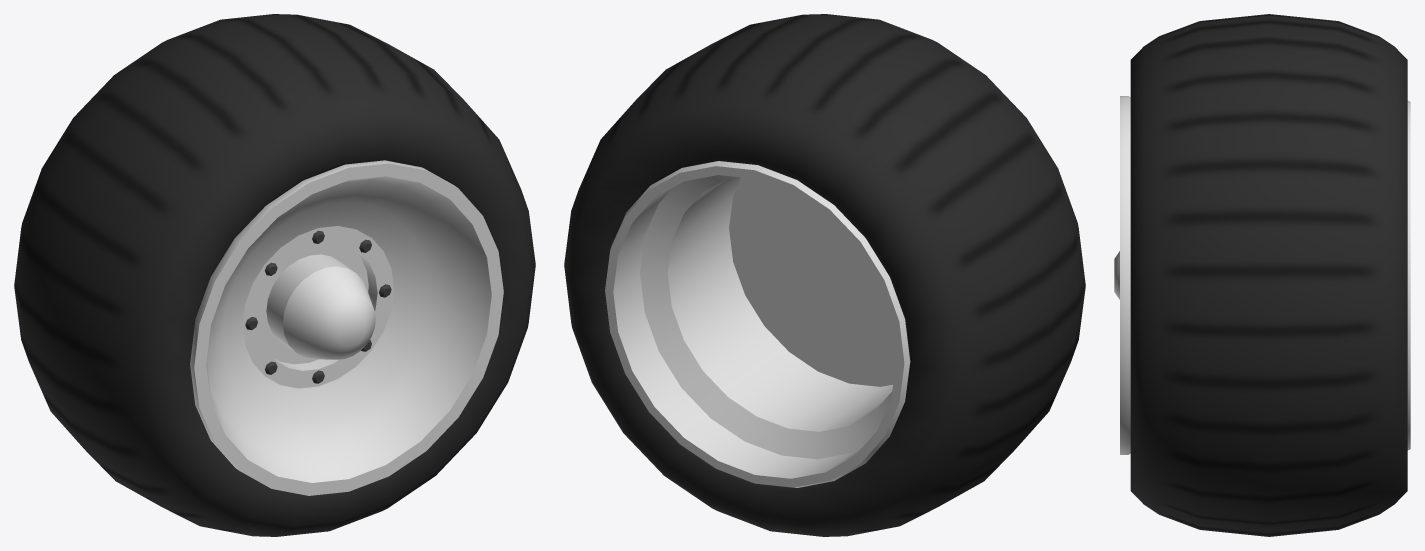
Rendered from tire1.obj.
The picture shows the model from 3 angles, left to right: view 1: azimuth 30°, elevation 25°; view 2: azimuth 150°, elevation 25°; view 3: azimuth 270°, elevation 25°; orthographic projection.
Parts seen in each view (by area): view 1: tire1; view 2: tire1; view 3: tire1.
Boxes of the visible parts, left/top/right/bottom form: tire1: left=14, top=14, right=535, bottom=536; tire1: left=564, top=14, right=1085, bottom=536; tire1: left=1114, top=14, right=1410, bottom=536.
Size of the model in its own units: 0.8933 by 0.8933 by 0.5048.
1 material, 1 textured.
